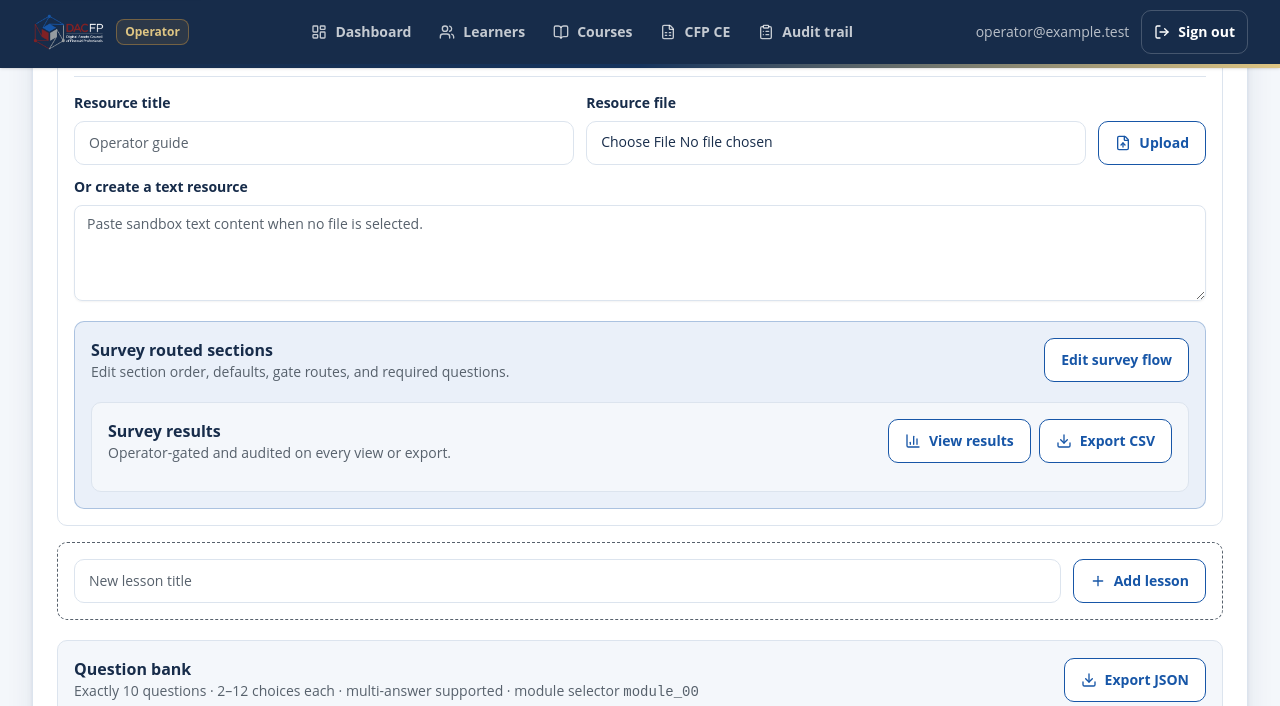
Admin surveys — V1b routed editor and results › round-trips seeded routed sections and renders branch-aware result breakdowns
(page scrolled)
Step 1. Click the button "Edit survey flow" → (1117, 360), box [1044,338,1189,382]
(page scrolled)
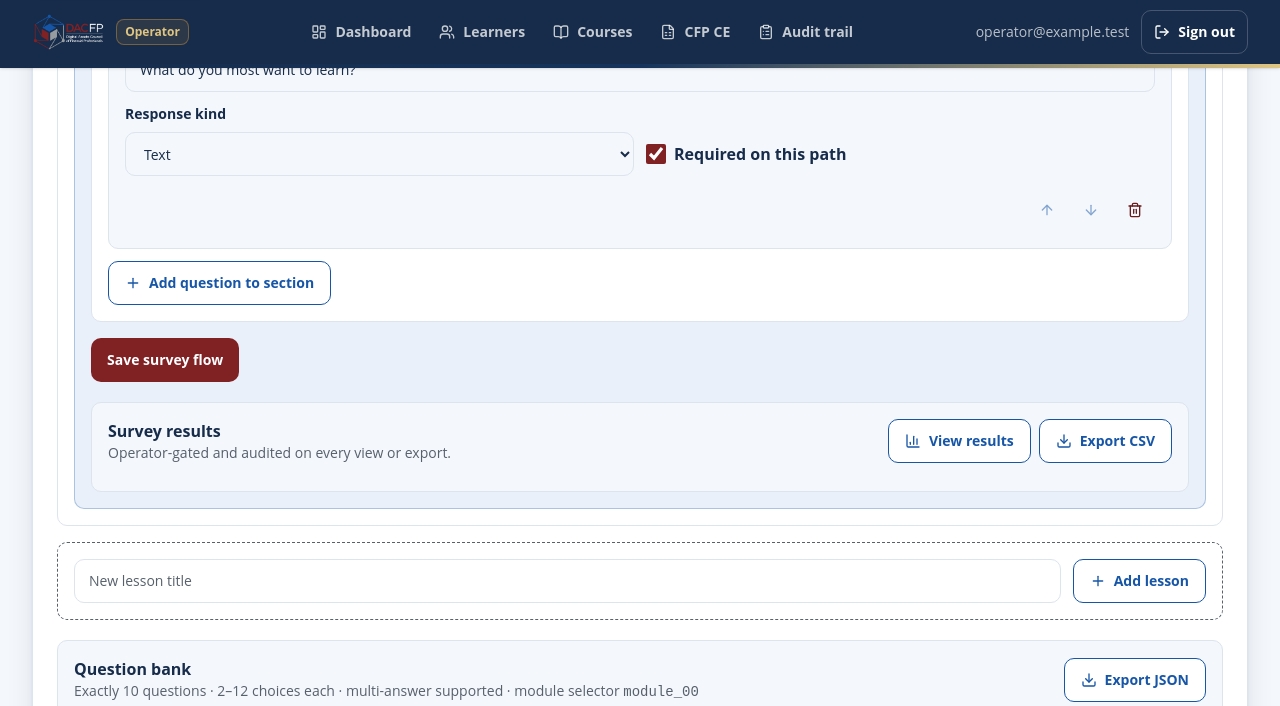
Step 2. Click the button "Save survey flow" → (165, 360), box [91,338,239,382]
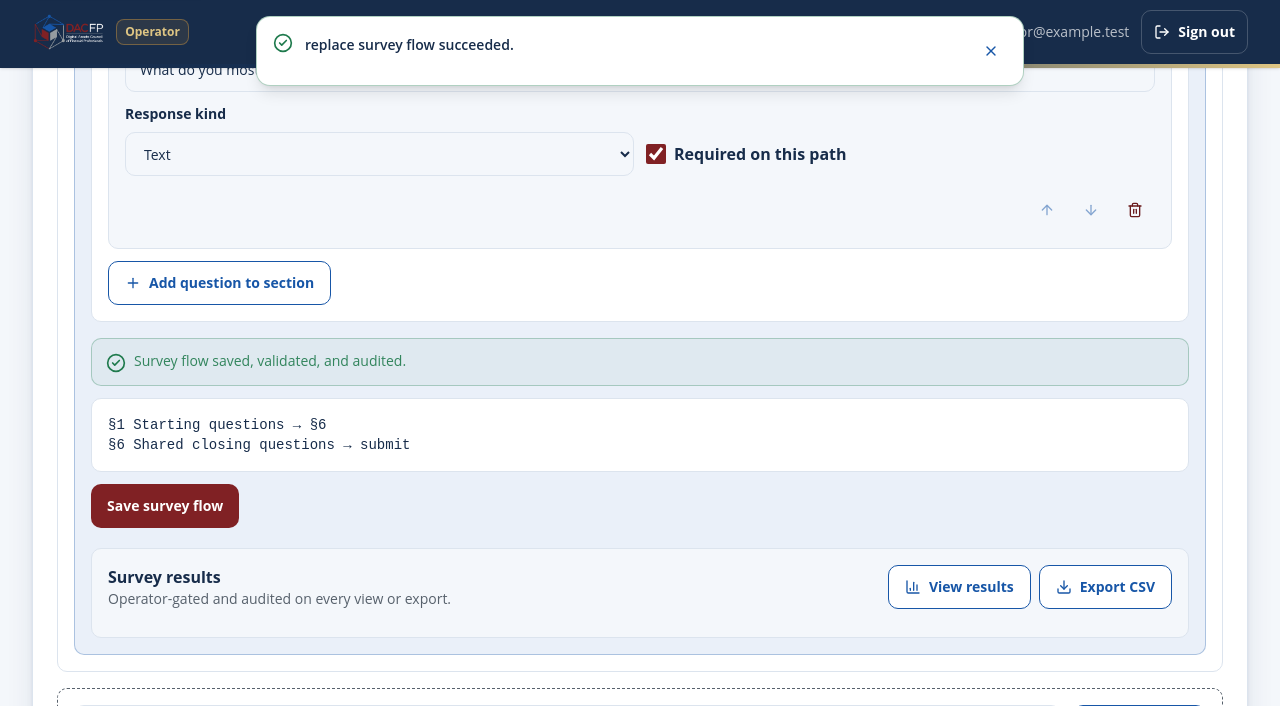
Expected: the text named "Survey flow outline" shows "§1", [108,417,410,453]
Step 3. Click the button "View results" → (959, 587), box [888,565,1031,609]
(page scrolled)
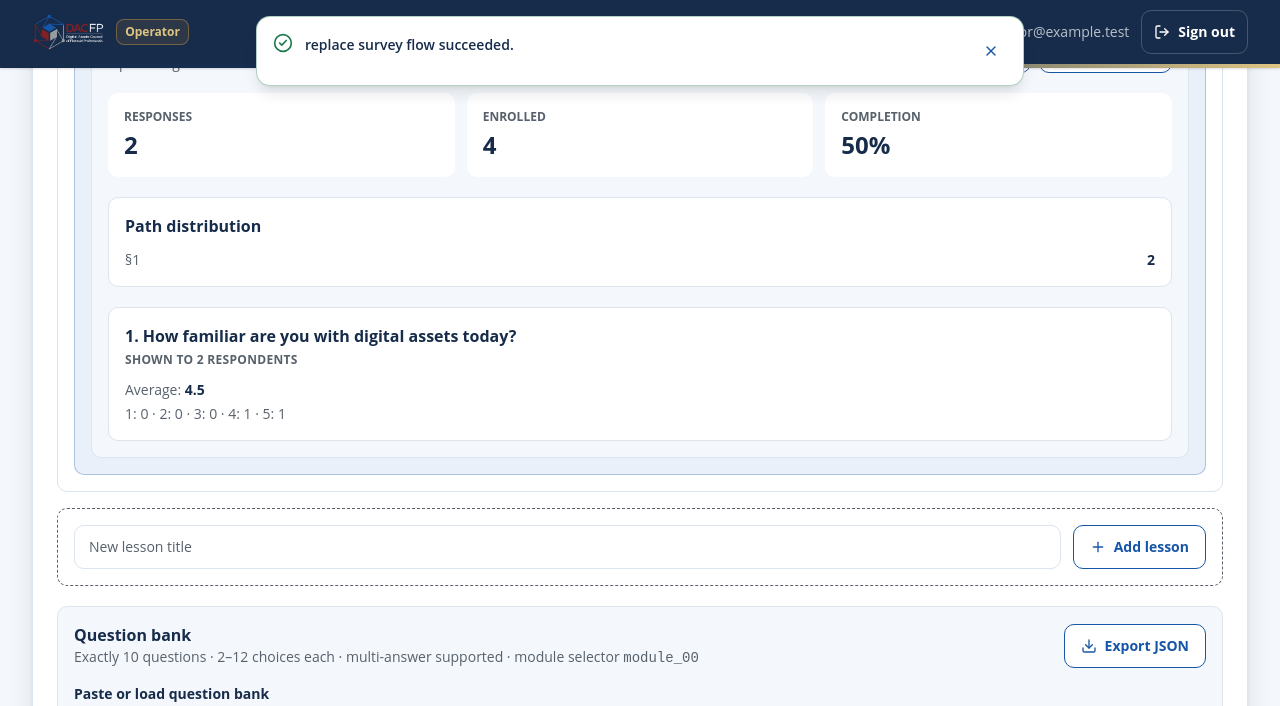
Expected: the text "Average:" is shown, [125,380,185,399]
Expected: the text "4.5" is shown, [185,380,205,399]
Expected: the text "50%" is shown, [841,128,890,161]
